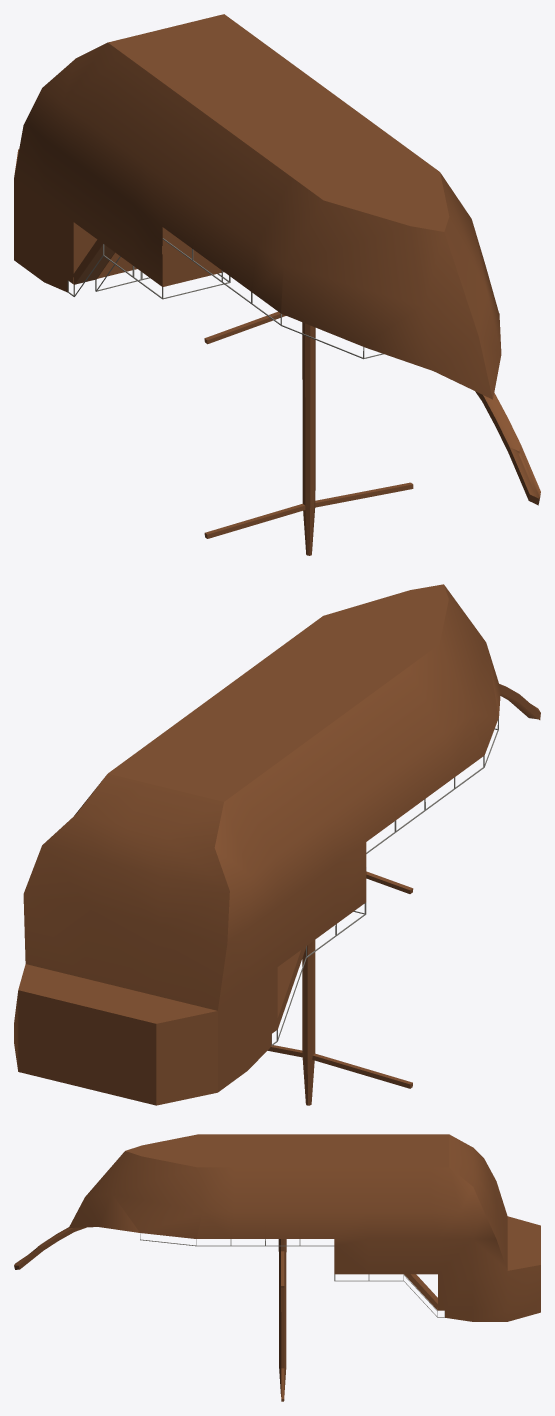
File: BoatRotated.FBX
The picture shows the model from 3 angles, top to bottom: view 1: azimuth 30°, elevation 25°; view 2: azimuth 150°, elevation 25°; view 3: azimuth 270°, elevation 25°; orthographic projection. The views are drawn at different scales.
Parts seen in each view (by area): view 1: Object001; view 2: Object001; view 3: Object001.
Boxes of the visible parts, left/top/right/bottom form: Object001: left=14, top=14, right=540, bottom=555; Object001: left=14, top=584, right=540, bottom=1105; Object001: left=14, top=1134, right=540, bottom=1401.
Size of the model in its own units: 40.92 by 79.85 by 155.
